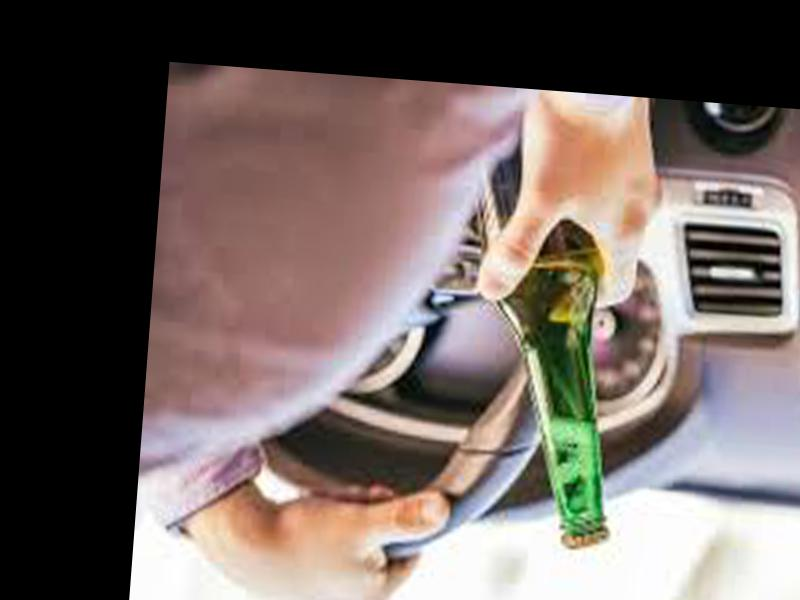Beer: (445, 104, 642, 554)
